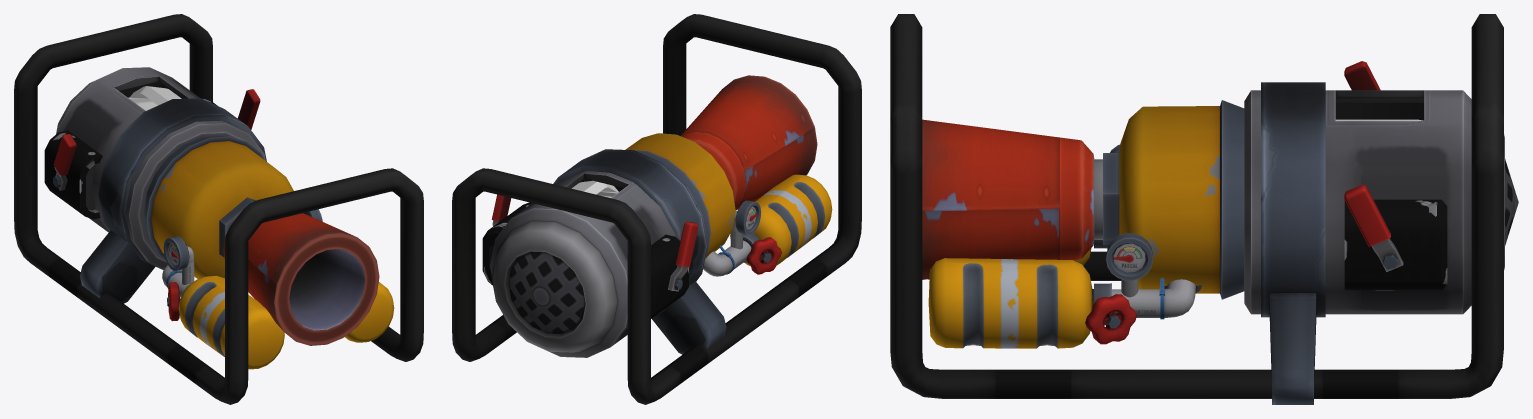
The model's file is fant_chemicalcannon_2.obj.
3 renders of one model, left to right at view 1: azimuth 30°, elevation 25°; view 2: azimuth 150°, elevation 25°; view 3: azimuth 270°, elevation 25°, orthographic. The views are drawn at different scales.
Visible parts, largest first — view 1: fant_chemicalcannon_Mesh.035; view 2: fant_chemicalcannon_Mesh.035; view 3: fant_chemicalcannon_Mesh.035.
Boxes of the visible parts, <box> form: fant_chemicalcannon_Mesh.035: <box>14,14,423,404</box>; fant_chemicalcannon_Mesh.035: <box>452,14,861,404</box>; fant_chemicalcannon_Mesh.035: <box>890,14,1518,404</box>.
Size of the model in its own units: 3.08 by 3.07 by 6.12.
